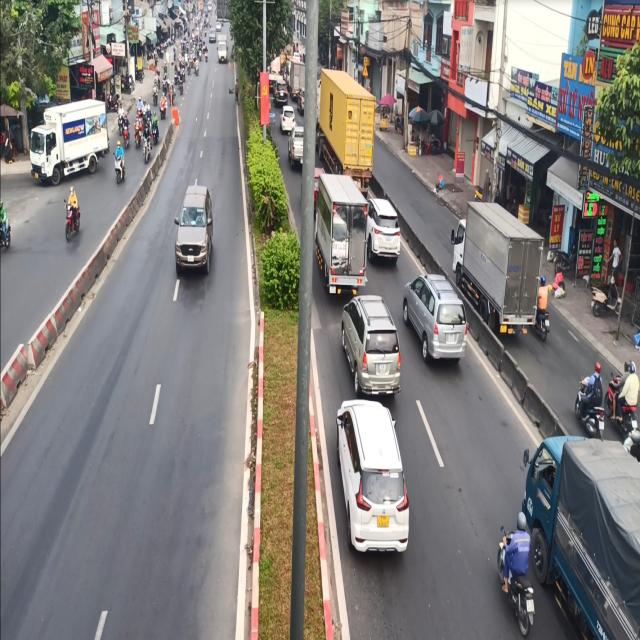car: (330, 392, 420, 572), (338, 284, 407, 403), (404, 264, 478, 370), (175, 174, 216, 284)
motor: (491, 493, 542, 628), (61, 184, 84, 246)
truck: (453, 184, 550, 341), (312, 172, 373, 296)
